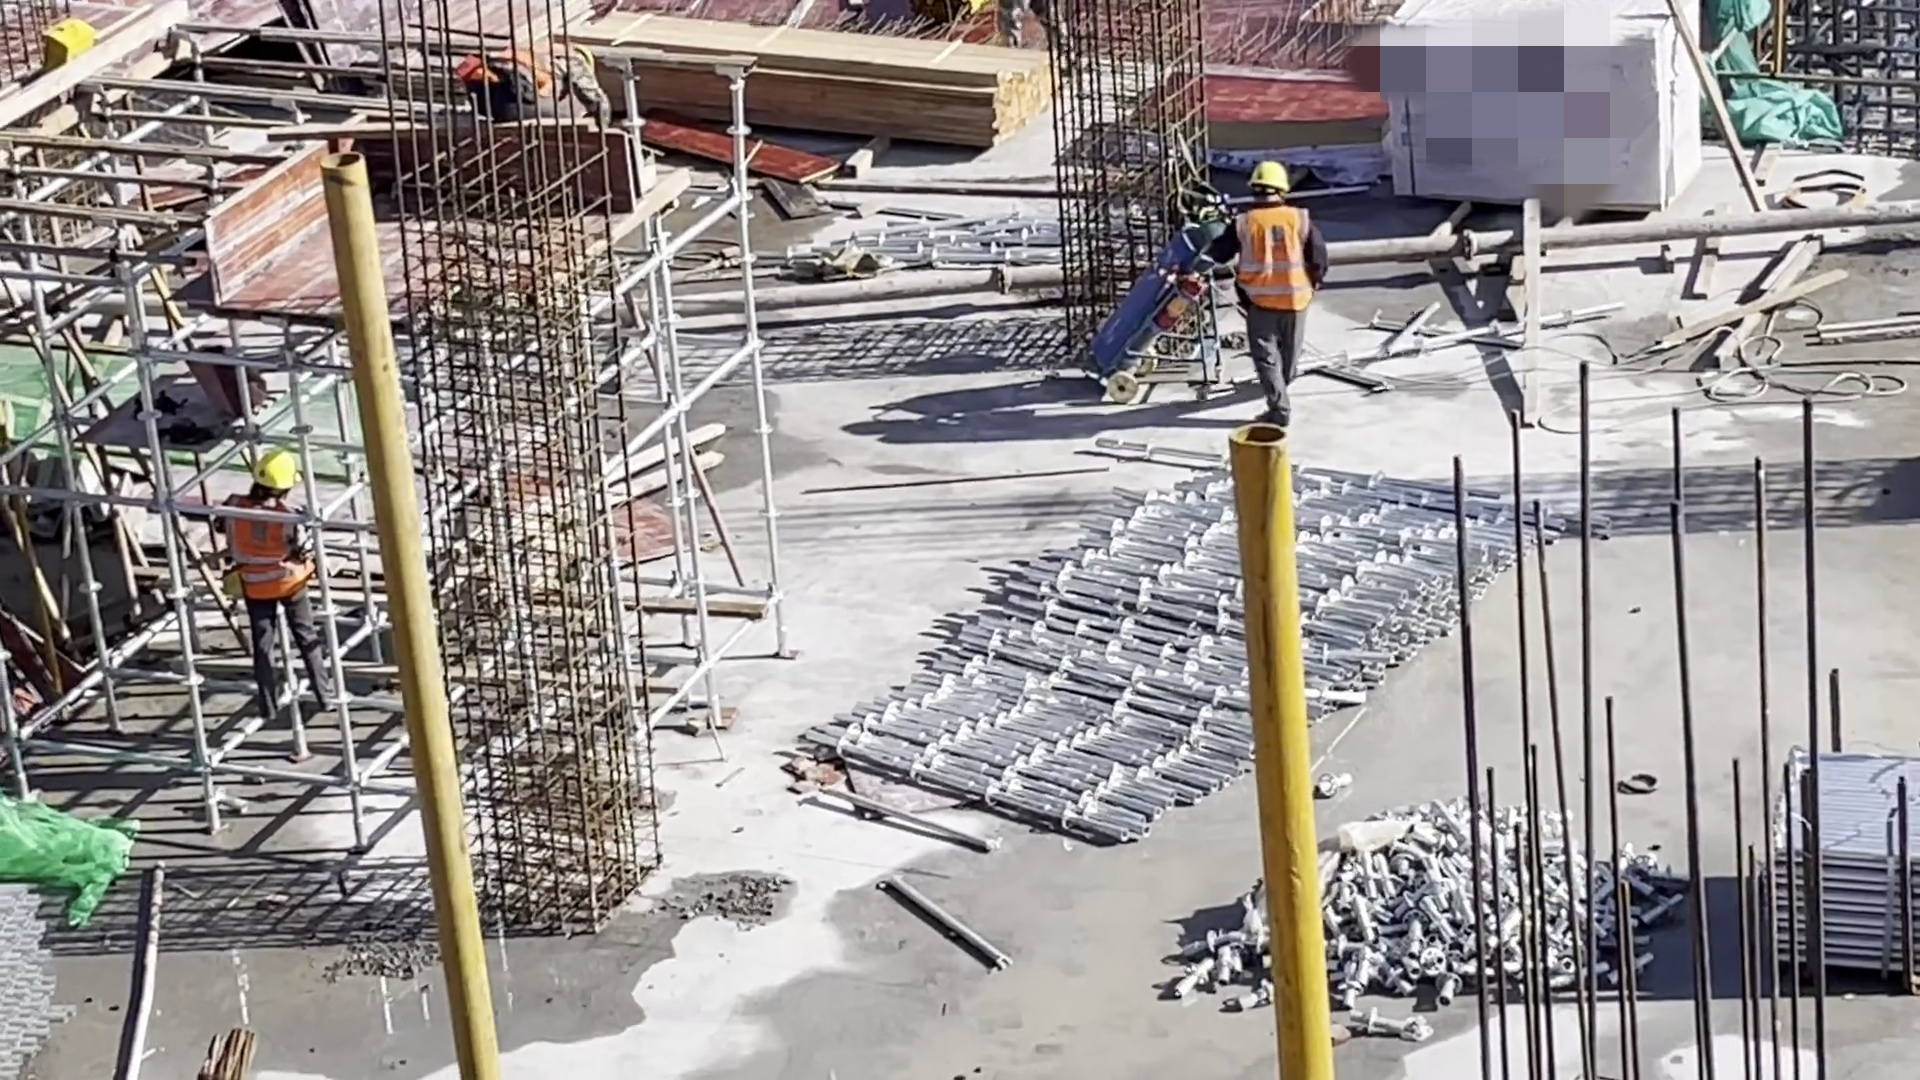helmet: (254, 447, 294, 491), (1247, 162, 1287, 191)
person: (215, 442, 336, 749), (1230, 154, 1317, 457), (463, 42, 612, 131)
vest: (222, 488, 313, 595), (1236, 208, 1313, 312), (469, 45, 567, 97)
